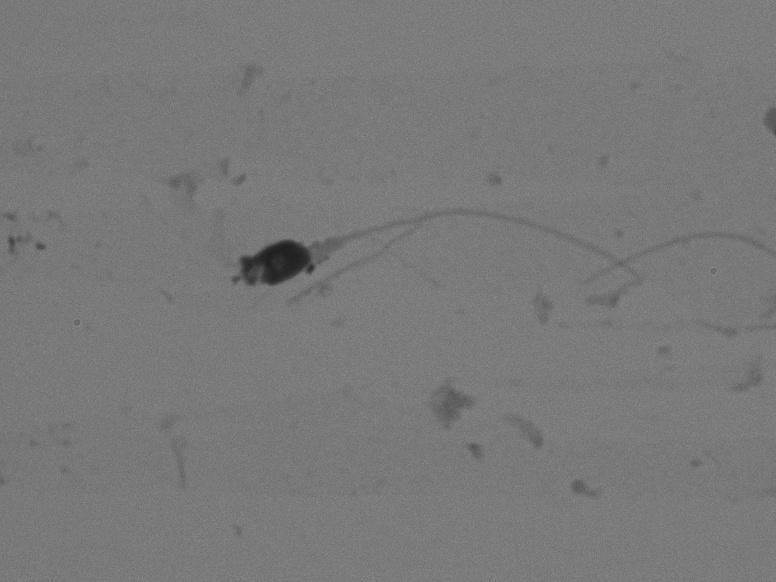Abnormal: (200, 161, 641, 375)
